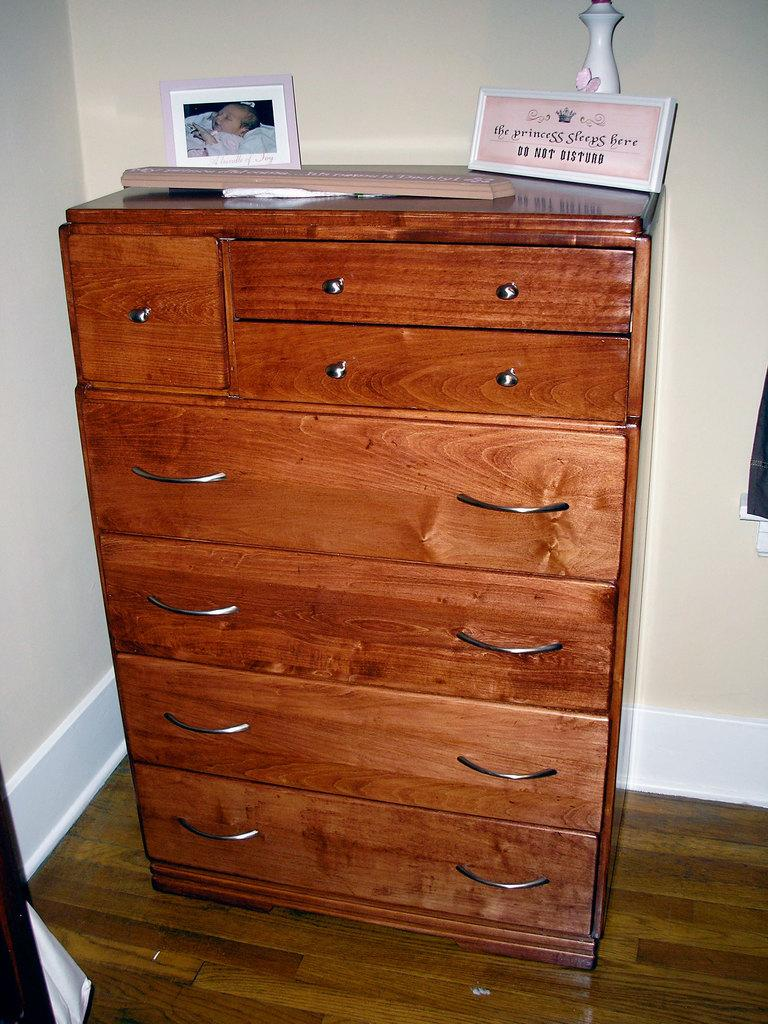cabinet_door: (111, 637, 610, 832), (85, 410, 619, 592), (103, 534, 611, 716), (136, 764, 601, 942), (240, 310, 624, 425), (231, 232, 629, 333), (77, 224, 219, 390)
handle: (452, 742, 558, 802), (458, 620, 564, 674), (132, 448, 226, 508), (457, 850, 550, 904), (461, 480, 567, 526), (146, 584, 234, 632), (166, 707, 249, 755), (173, 809, 261, 849), (492, 362, 522, 396), (320, 266, 346, 299), (130, 298, 150, 334), (499, 276, 520, 310), (326, 353, 348, 384)
